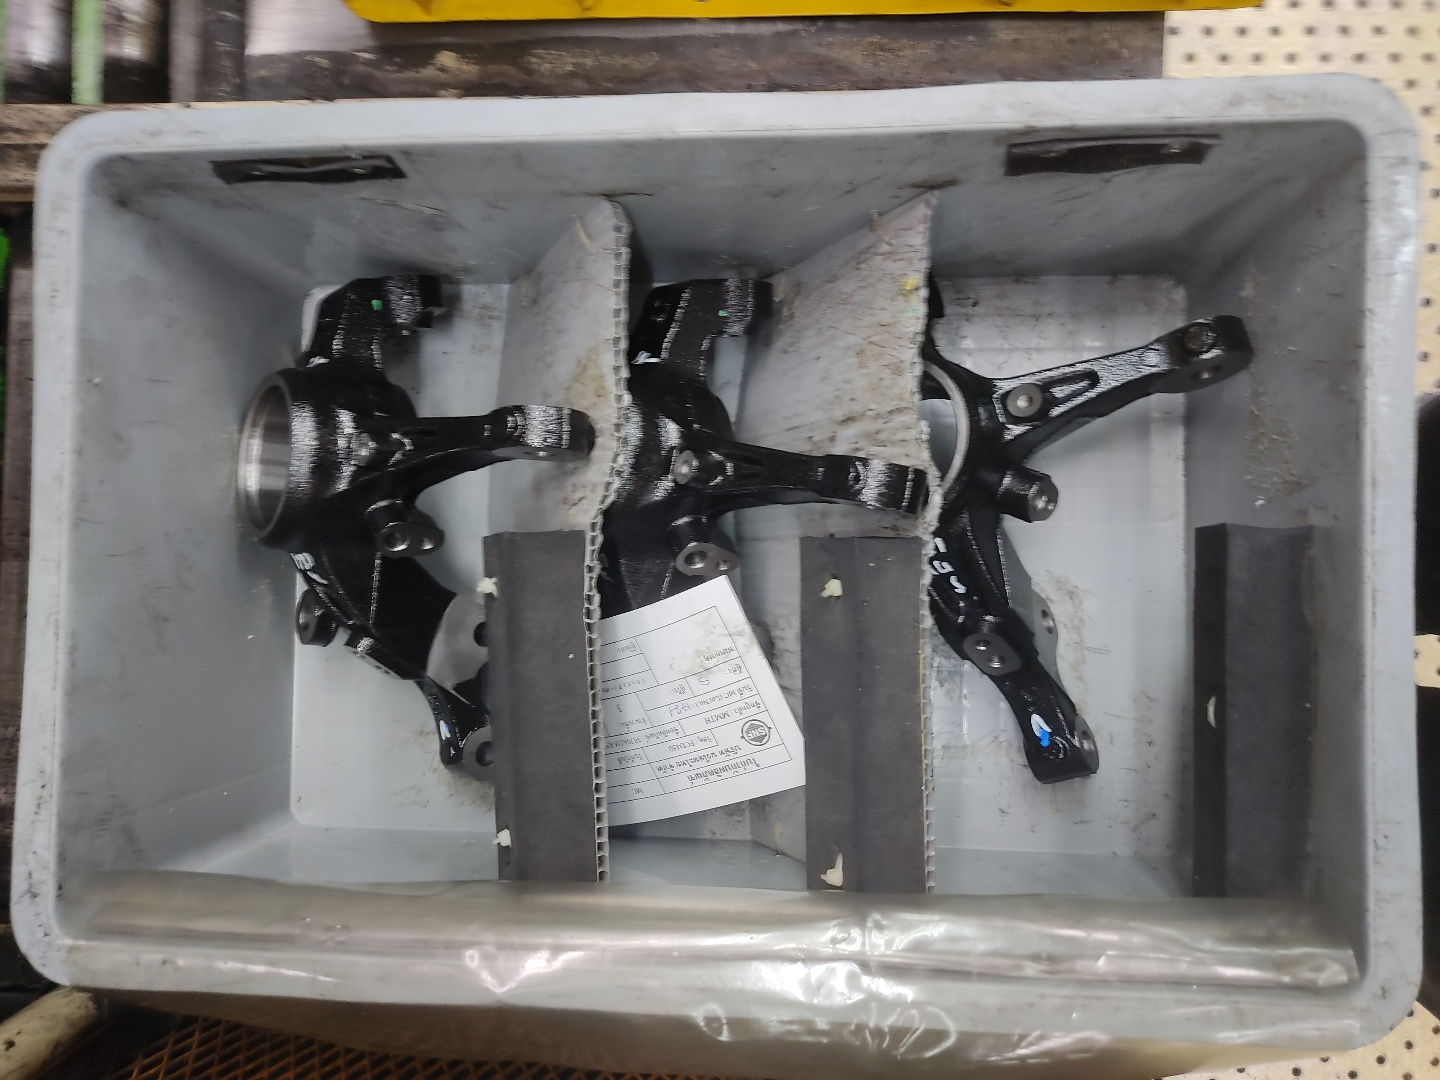abs-rh: (225, 268, 599, 805), (912, 245, 1262, 795), (612, 273, 923, 804)
